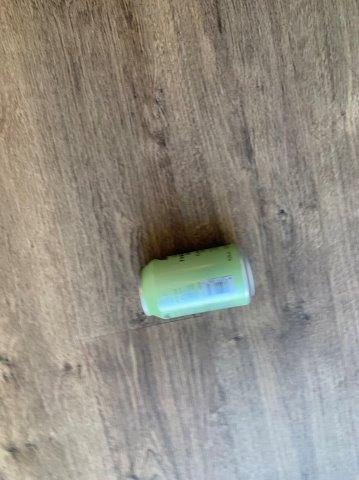kaleng: (140, 246, 253, 318)
